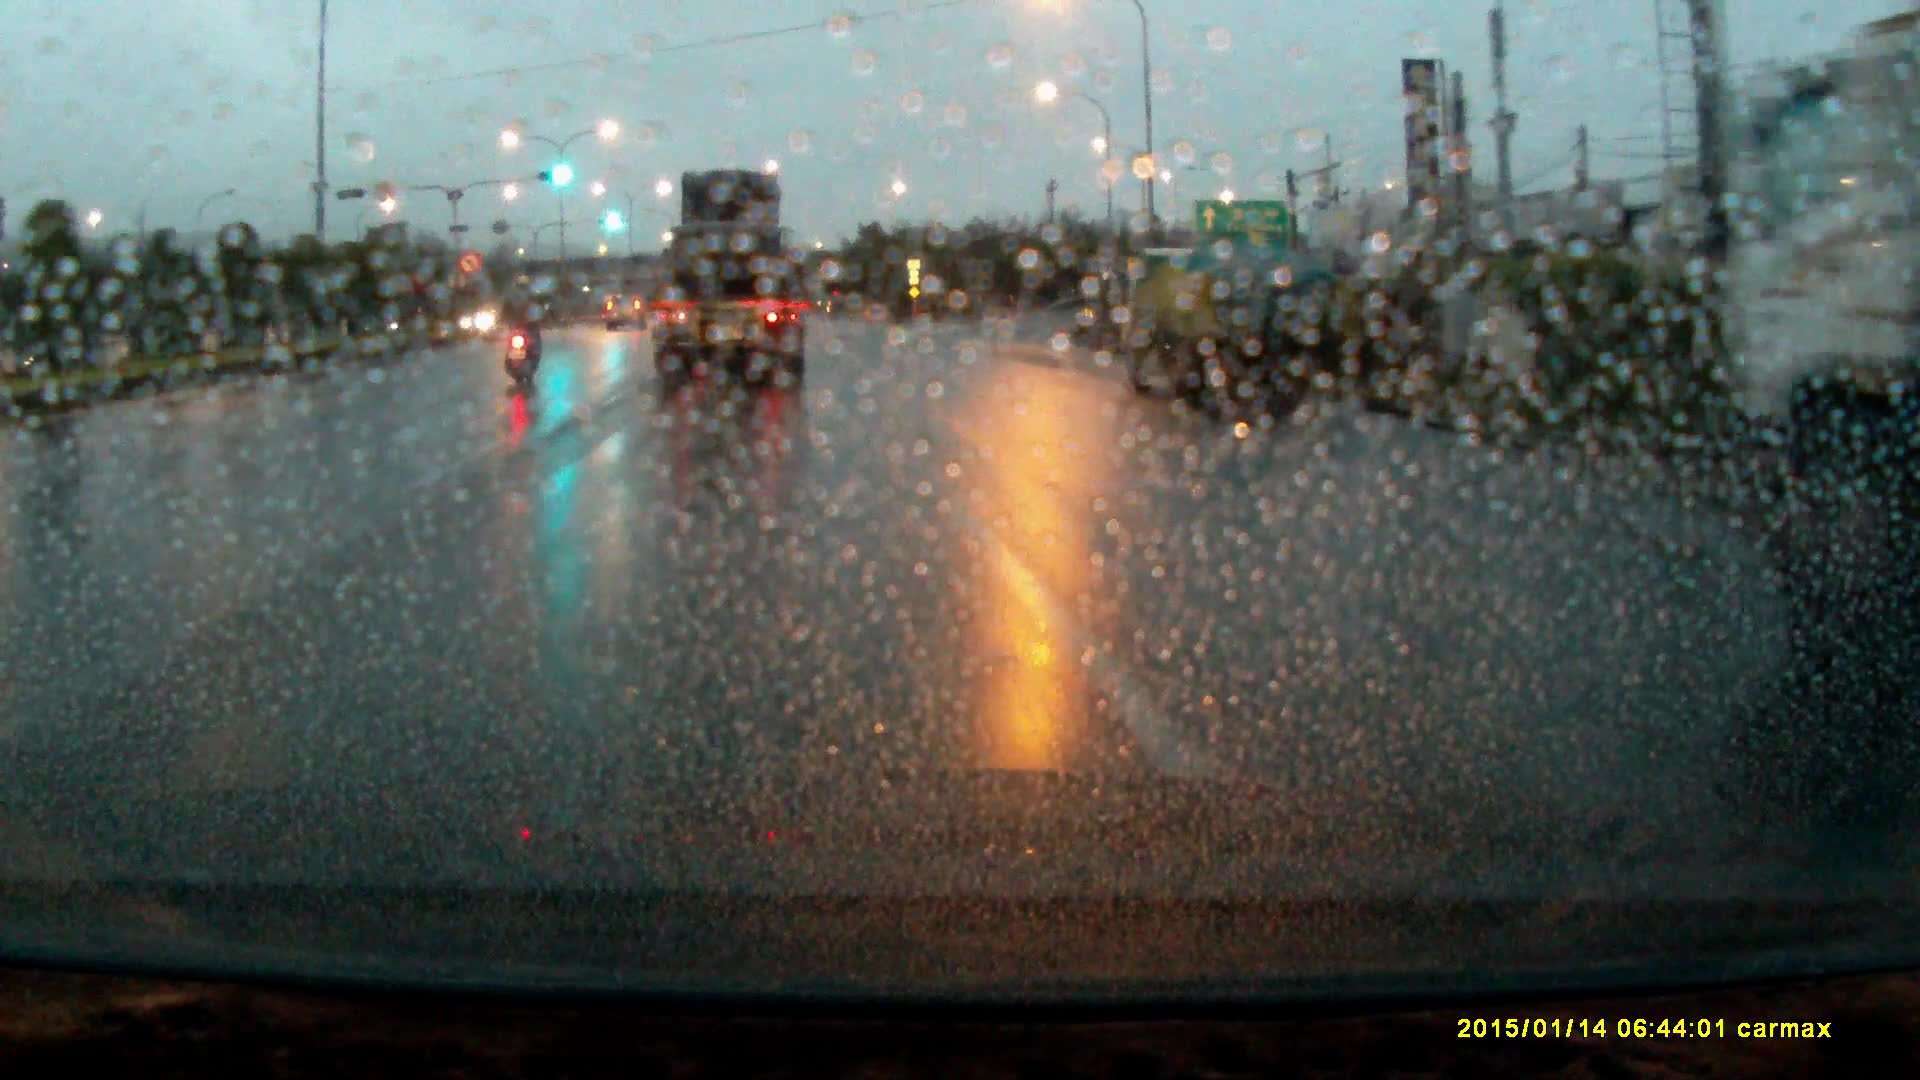rider: (501, 272, 551, 388)
vehicle: (1113, 245, 1350, 418), (650, 168, 811, 396), (606, 294, 646, 332)
